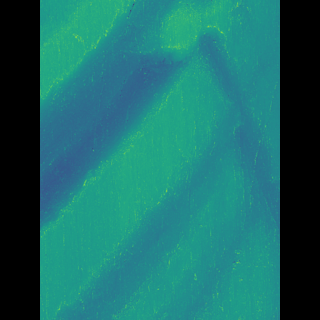Loch: (69, 0, 217, 243), (79, 177, 193, 319)
